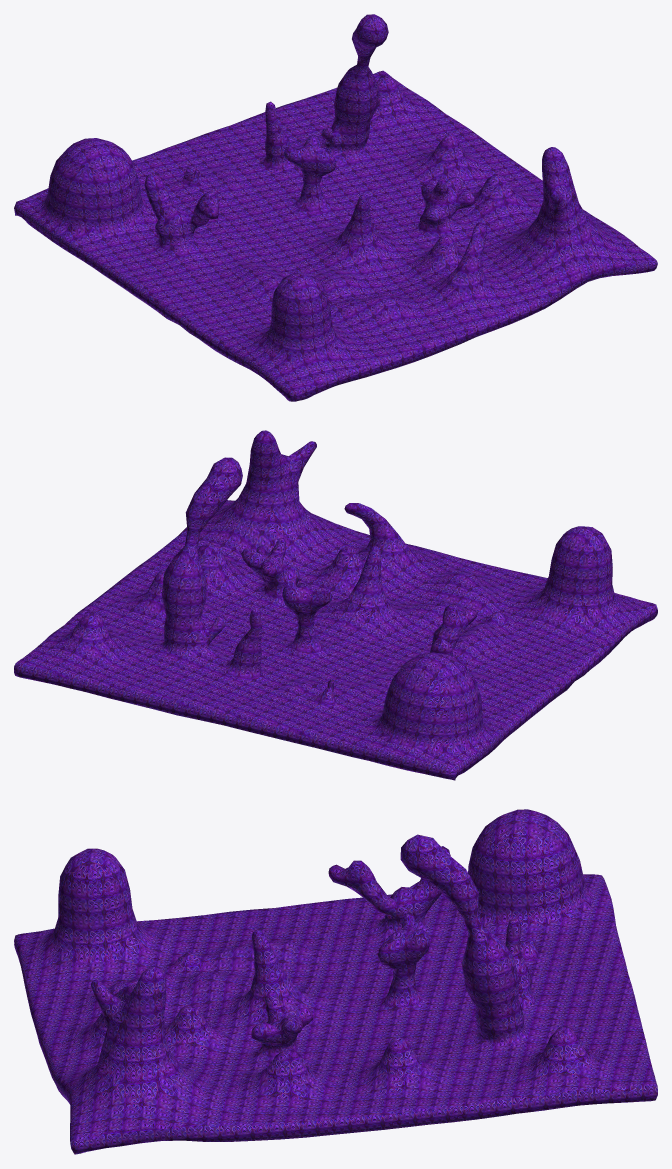
File: Floor.glb
3 renders of one model, top to bottom at view 1: azimuth 30°, elevation 25°; view 2: azimuth 150°, elevation 25°; view 3: azimuth 270°, elevation 25°, orthographic. The views are drawn at different scales.
Visible parts, largest first — view 1: Retopo_inst_9; view 2: Retopo_inst_9; view 3: Retopo_inst_9.
Boxes of the visible parts, <box> form: Retopo_inst_9: <box>14,14,657,401</box>; Retopo_inst_9: <box>14,430,657,780</box>; Retopo_inst_9: <box>14,809,657,1154</box>.
Size of the model in its own units: 78.88 by 36.54 by 82.12.
1 material, 1 textured.
